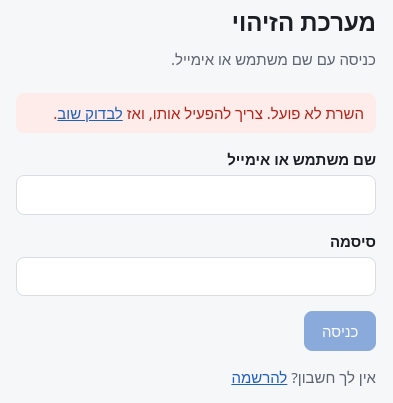
the navigation › says when the server is down, and checks again
This screenshot has width=393, height=403.
Expected: the text "השרת לא פועל. צריך להפעיל אותו, ואז לבדוק שוב ." is shown, [16, 92, 376, 133]
Click the button "לבדוק שוב": x=90, y=113 [57, 102, 123, 124]
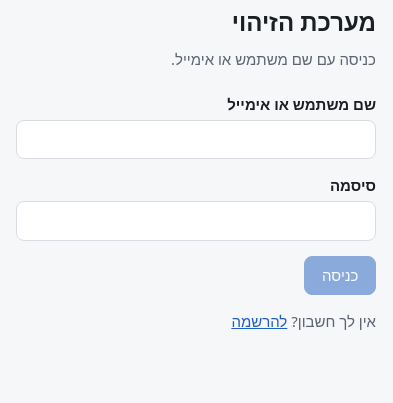
Now the text "השרת לא פועל" is gone
